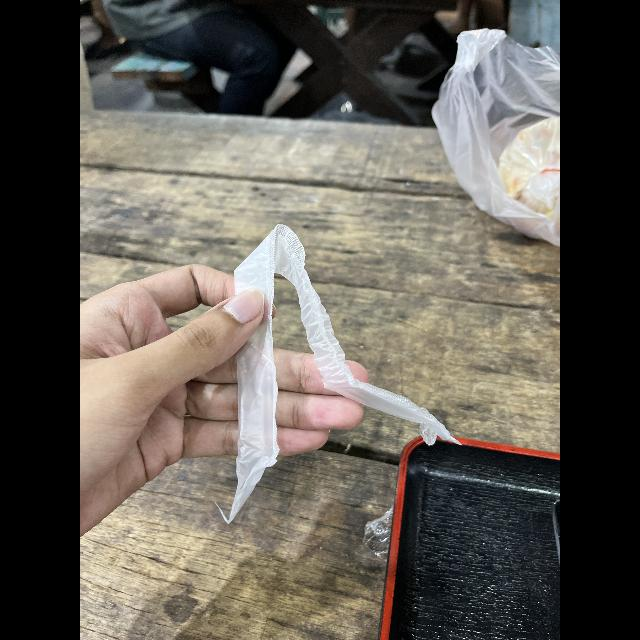plastic_bag: (426, 24, 560, 250)
scrap_plastic: (216, 221, 468, 521)
